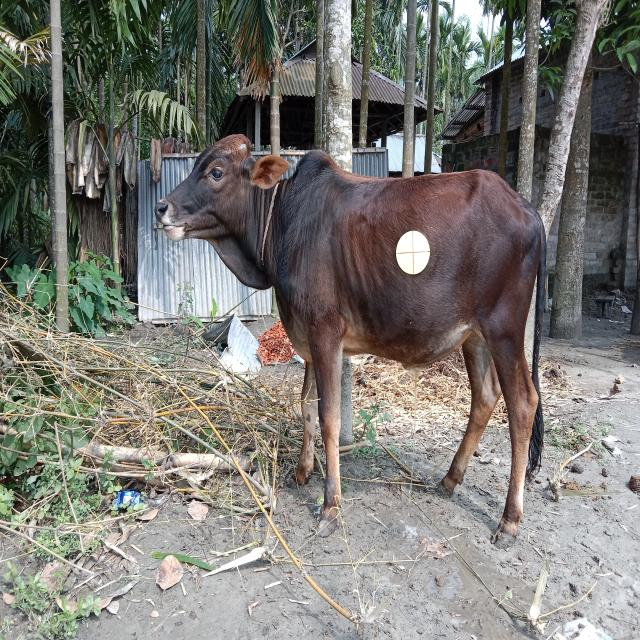badan_sapi: (295, 171, 536, 360)
sapi: (149, 105, 571, 556)
